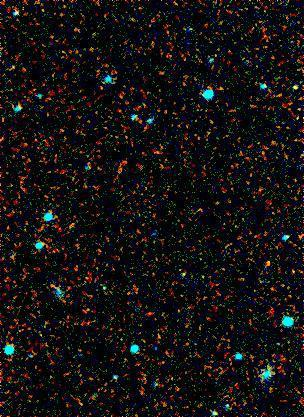star: (277, 75, 304, 105)
